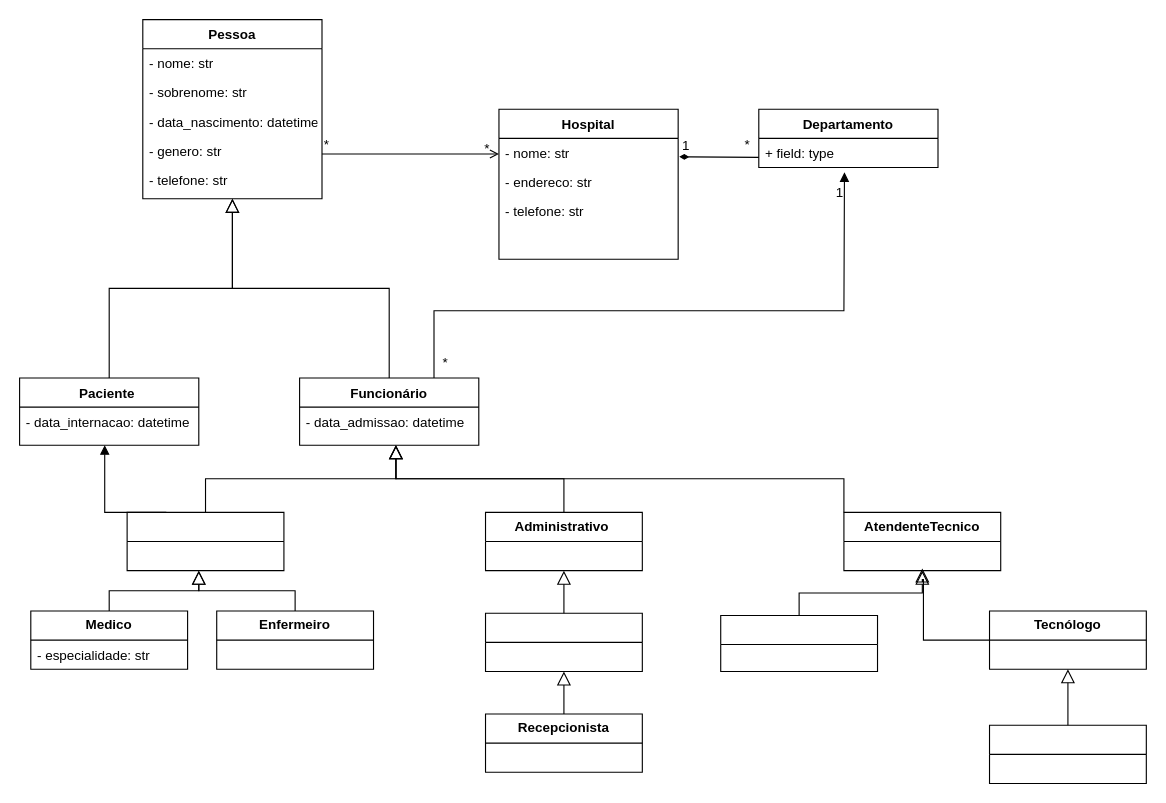
Image size: 1166x803. Some labels were removed from this diagram. The centre of each missing label's shape, as x and y in pixels:
Atendente: [563,641]
Operacional: [205,541]
Tecnólogo Cirúrgico: [1067,753]
Técnico: [799,642]
